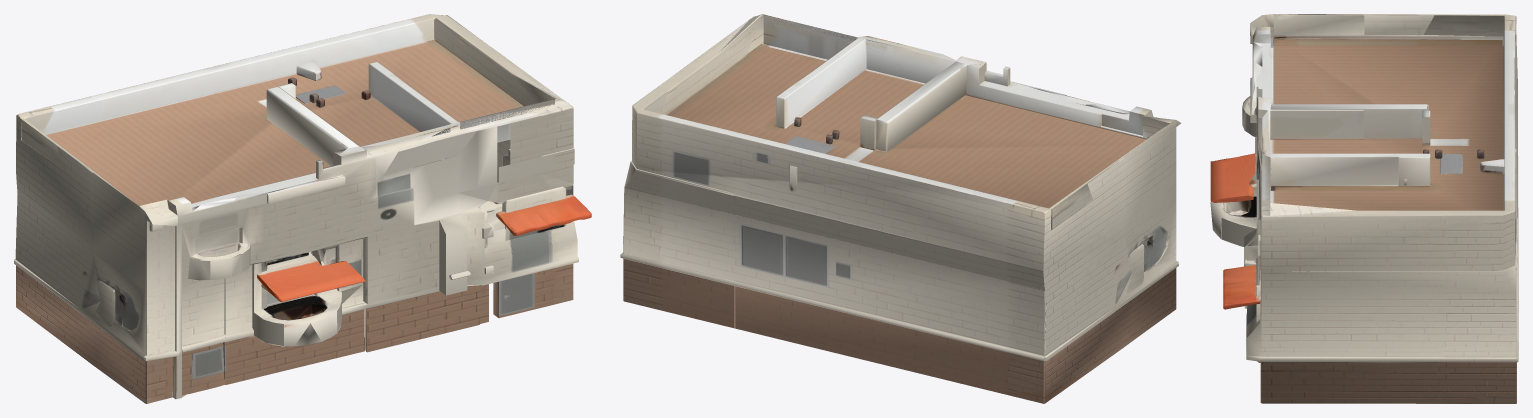
Rendered from placed_bld_406278384.glb.
3 renders of one model, left to right at view 1: azimuth 30°, elevation 25°; view 2: azimuth 150°, elevation 25°; view 3: azimuth 270°, elevation 25°, orthographic. The views are drawn at different scales.
Visible parts, largest first — view 1: bld_406278384; view 2: bld_406278384; view 3: bld_406278384.
Part boxes in pixels (x1,y1,x2,y2): bld_406278384: [14, 14, 591, 403]; bld_406278384: [620, 14, 1181, 403]; bld_406278384: [1210, 14, 1518, 403].
Size of the model in its own units: 14.63 by 6.8 by 9.31.
1 material, 1 textured.
